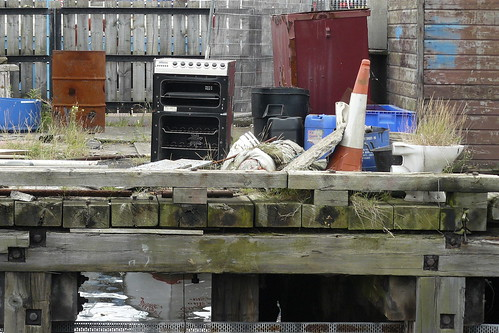barrell: (50, 46, 112, 135)
bridge: (6, 159, 499, 333)
oven: (146, 53, 235, 169)
traffic cone: (342, 56, 375, 170)
